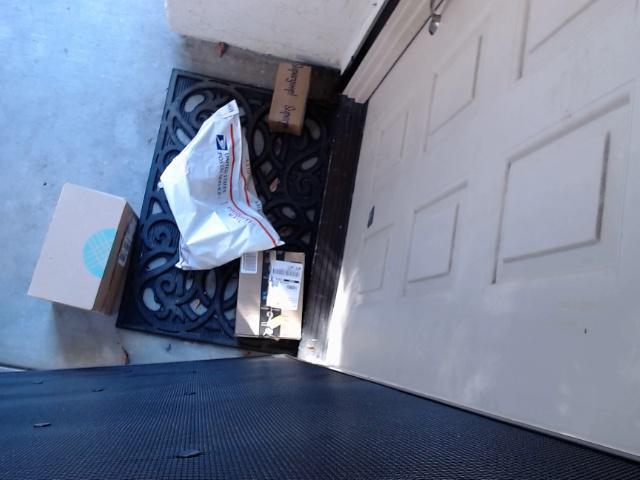box: (9, 166, 144, 339), (223, 235, 320, 356), (262, 46, 325, 152)
plastic_bag: (148, 94, 282, 274)
